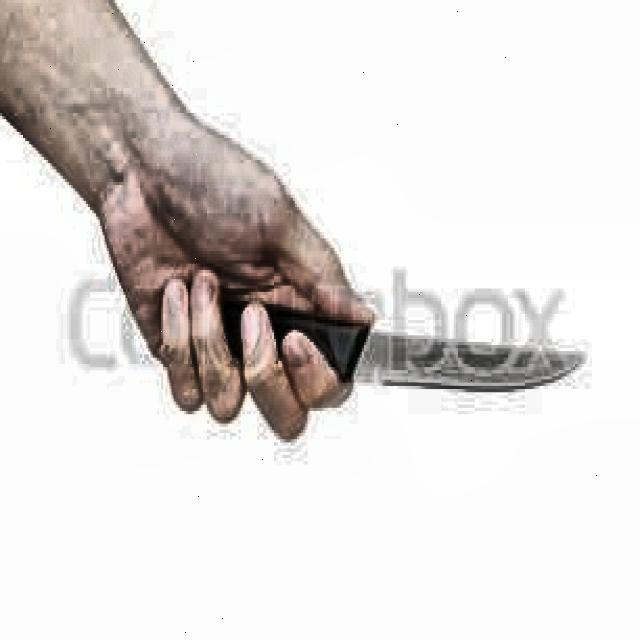knife: (225, 302, 587, 394)
